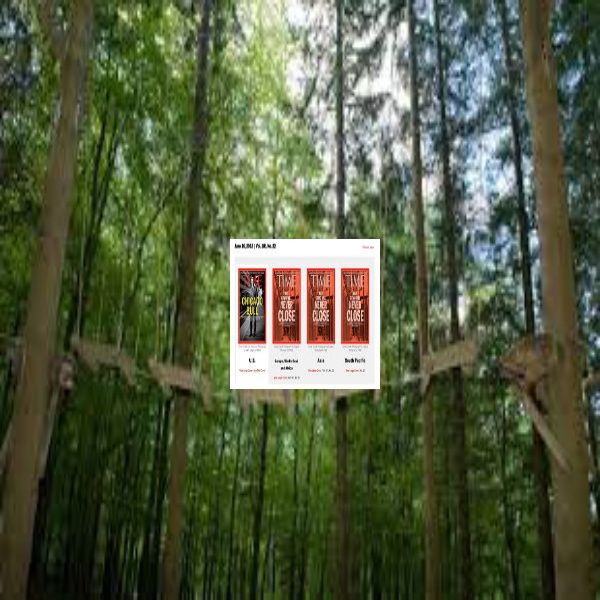time_cover: (239, 270, 267, 349), (339, 266, 367, 343), (273, 266, 299, 343), (306, 269, 332, 344)
